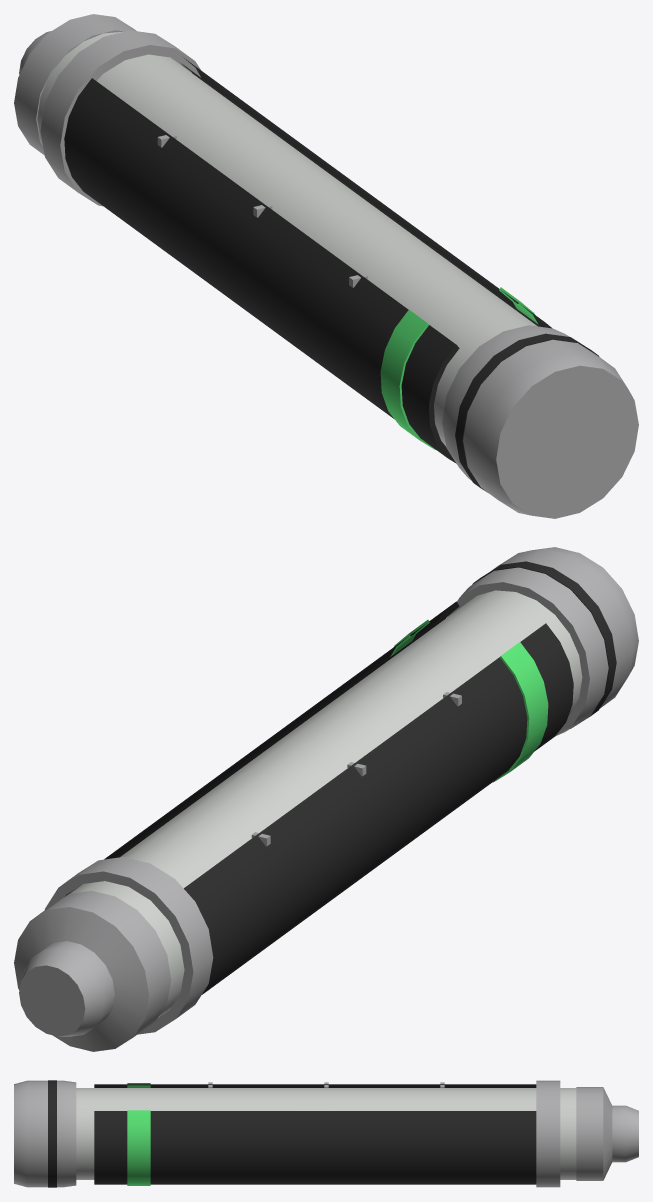
Rendered from regen_r1.glb.
3 views of the same model, one above another, from view 1: azimuth 30°, elevation 25°; view 2: azimuth 150°, elevation 25°; view 3: azimuth 270°, elevation 25° (orthographic). The views are drawn at different scales.
Visible parts, largest first — view 1: body; view 2: body; view 3: body.
Part boxes in pixels (x1=…): body: x1=14, y1=14, x2=638, y2=518; body: x1=14, y1=547, x2=638, y2=1051; body: x1=14, y1=1080, x2=638, y2=1187.
Bounding box in the file's own units: 0.0121 × 0.0119 × 0.07.
